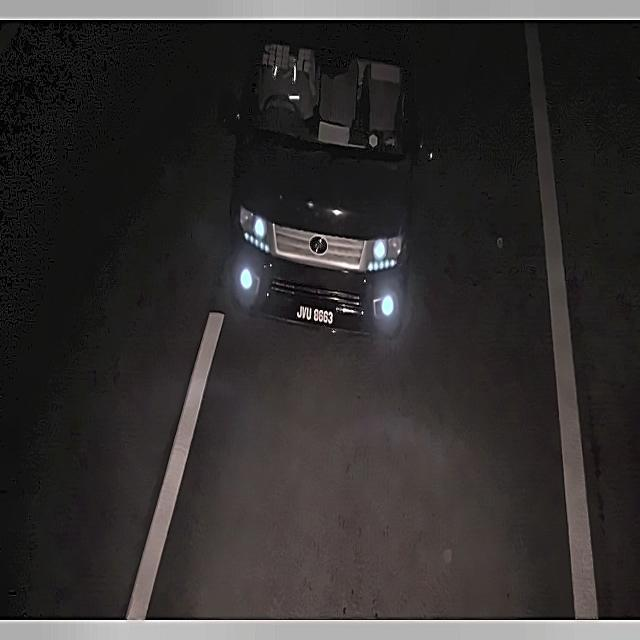car: (291, 294, 338, 333)
